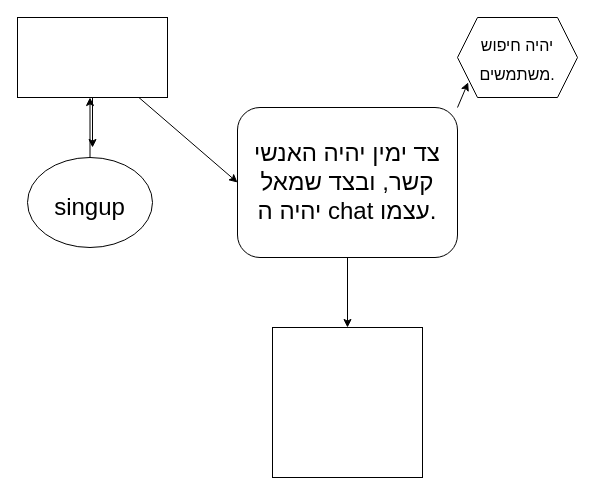
Image size: 595x495. Some labels were removed from this diagram. Each missing label, with the centre of its shape:
"login" belongs at pixel 92 57.
"כאן יהיה ההגדרות, והיו כאן כל מיני דברים, לדוגמא הפרטים של המשתמש, ועדכון משתמש." belongs at pixel 347 402.
